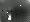person: (8, 8, 14, 20)
